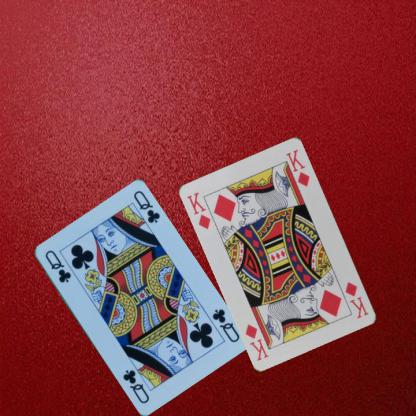Kd: (342, 279, 370, 320), (184, 190, 212, 230)
Qc: (209, 306, 240, 343), (42, 247, 72, 284)
